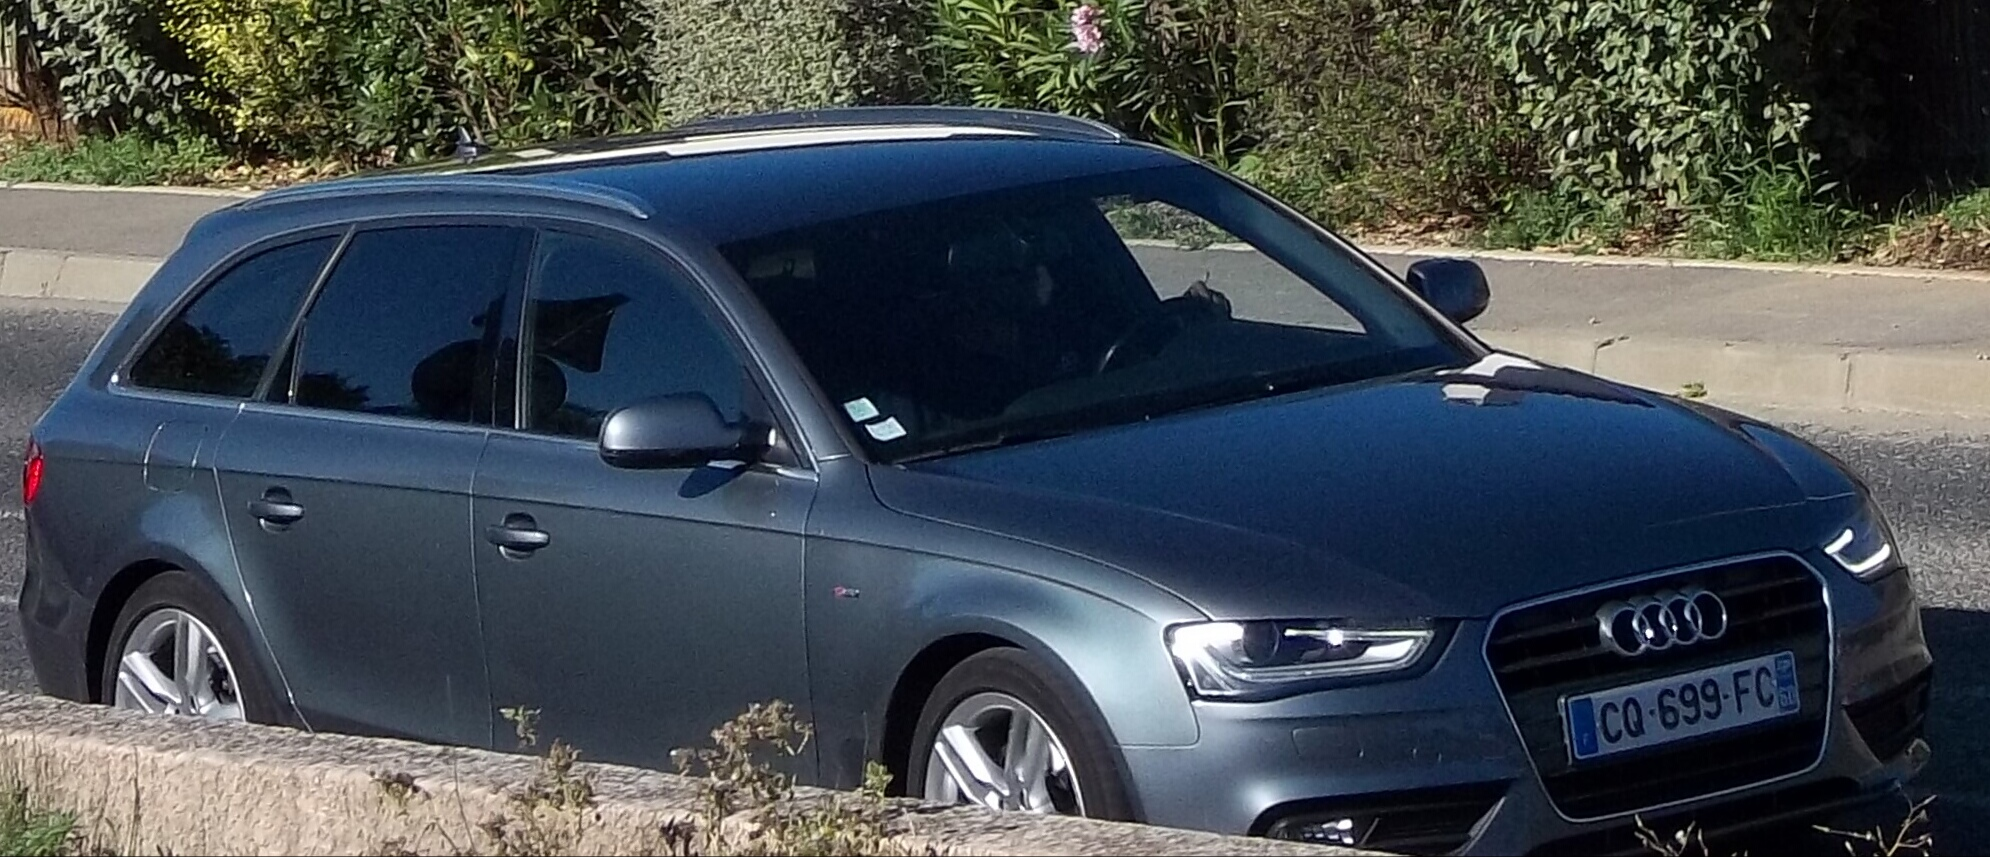licence plate: (1565, 646, 1809, 767)
